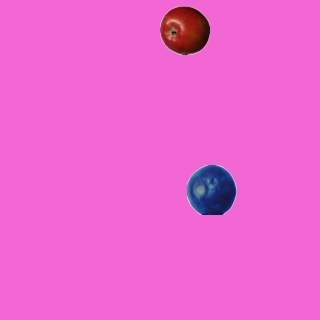Apple Braeburn: (159, 5, 209, 55)
Huckleberry: (186, 164, 236, 214)
